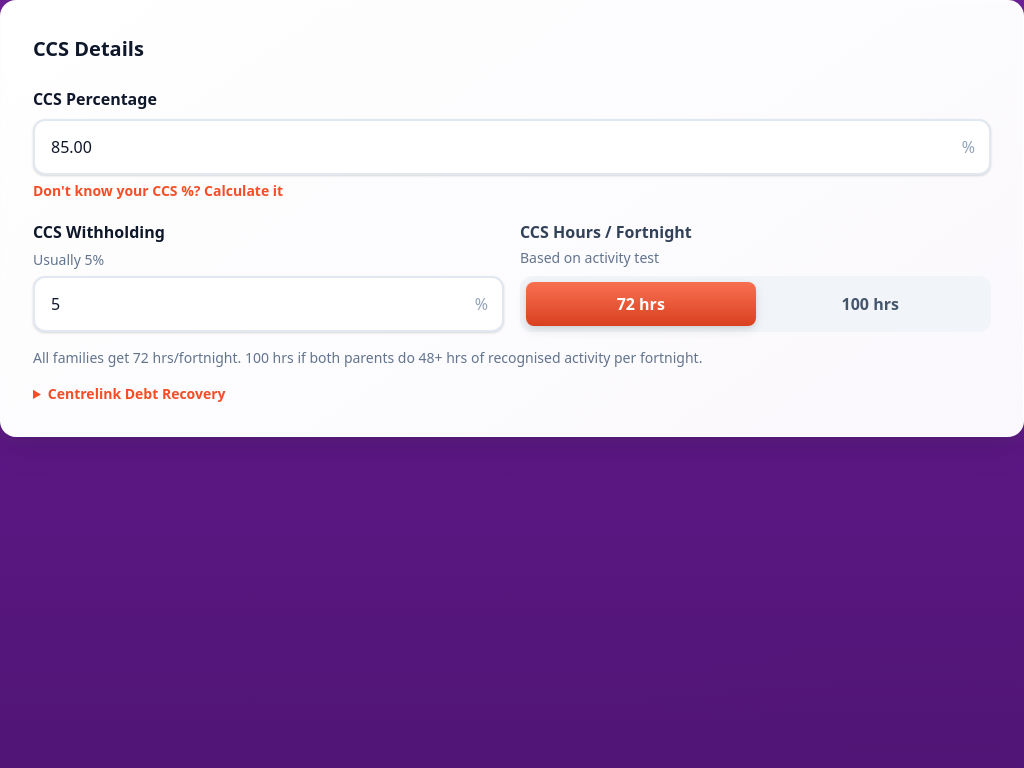
Test: CcsDetailsCard › shows checkbox when disclosure is opened
Click the heading "Centrelink Debt Recovery".
click(137, 394)  # box [48,384,226,403]
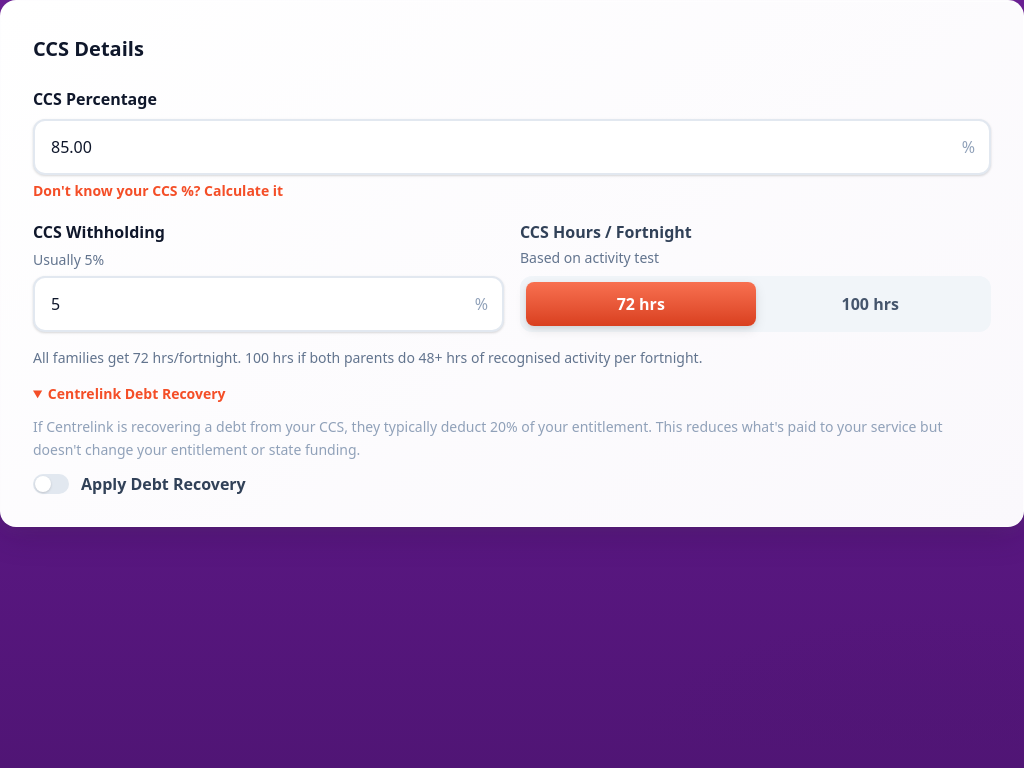
Now the switch named "Apply debt recovery" is shown, box [33,474,69,494]
